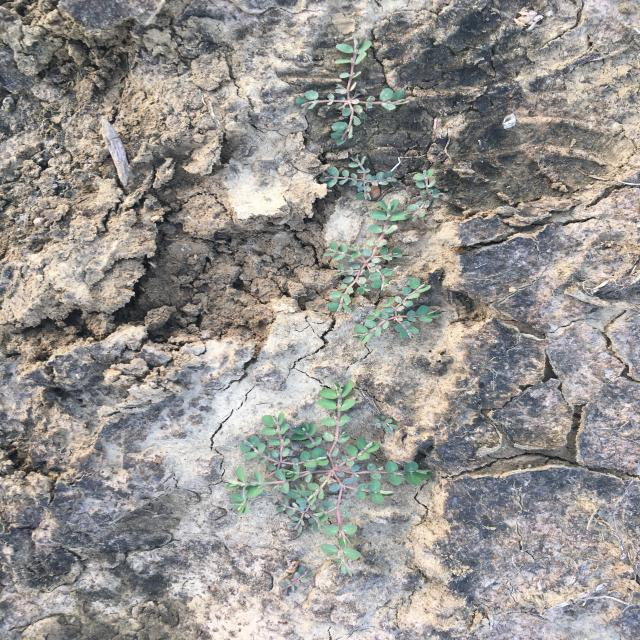SpottedSpurge: (221, 379, 434, 578), (293, 34, 415, 147), (322, 198, 412, 315), (352, 276, 440, 344), (318, 153, 398, 204), (406, 167, 446, 224)
